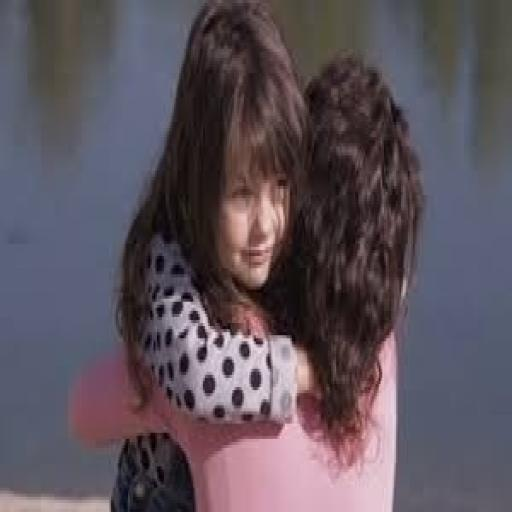hugging: (107, 0, 425, 509)
